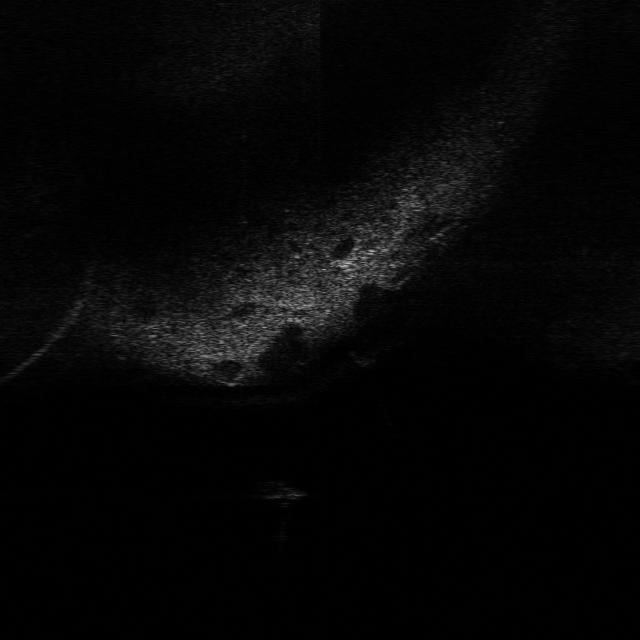ball: (344, 332, 386, 368)
cube: (250, 478, 310, 508)
